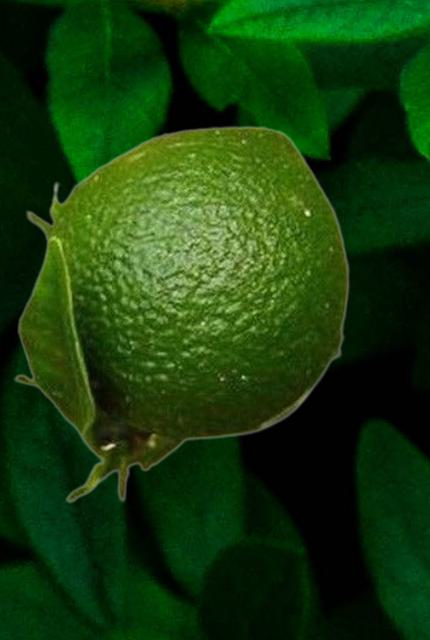dalandan: (12, 125, 349, 503)
